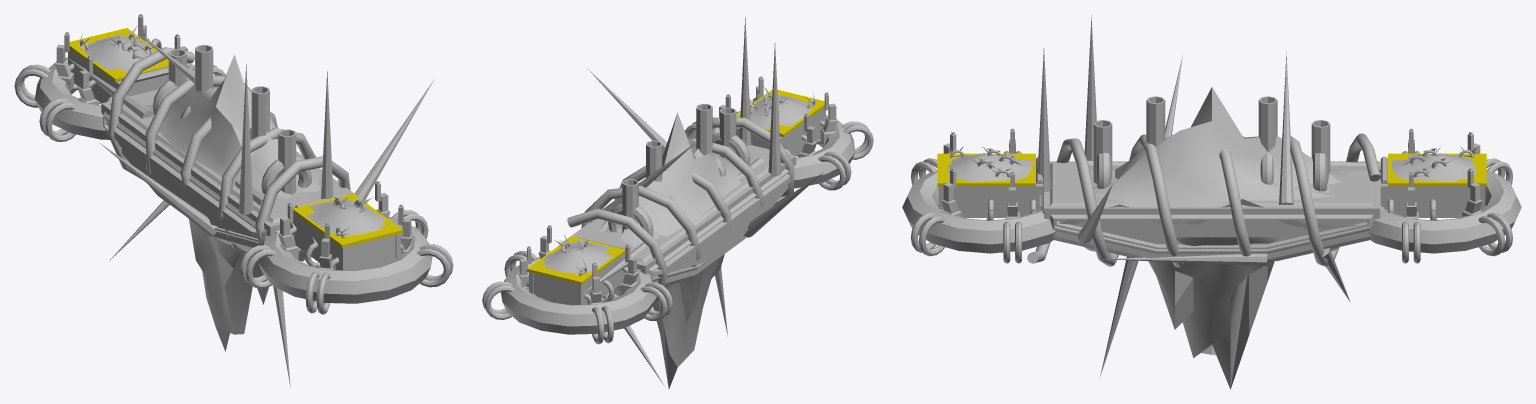
3 renders of one model, left to right at view 1: azimuth 30°, elevation 25°; view 2: azimuth 150°, elevation 25°; view 3: azimuth 270°, elevation 25°, orthographic. The views are drawn at different scales.
Parts seen in each view (by area): view 1: demo_boss_1; view 2: demo_boss_1; view 3: demo_boss_1.
Part boxes in pixels (bbox=[...]): demo_boss_1: bbox=[14, 14, 453, 387]; demo_boss_1: bbox=[482, 17, 873, 389]; demo_boss_1: bbox=[902, 15, 1521, 389].
Size of the model in its own units: 2.96 by 3.31 by 5.28.
